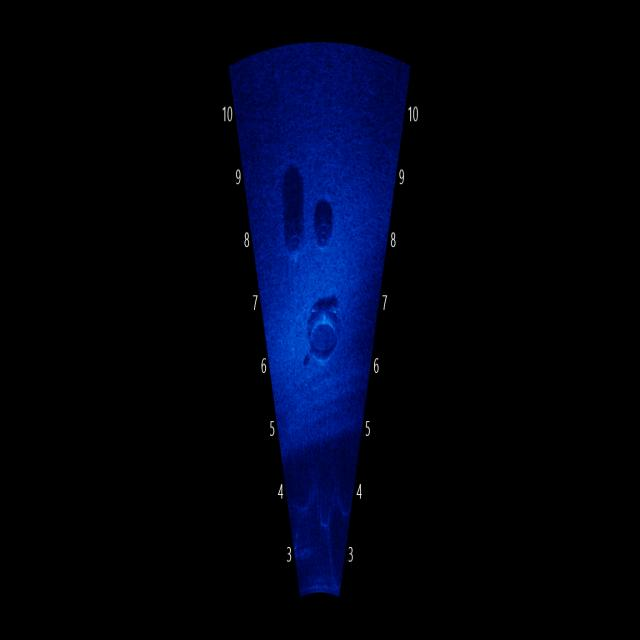circle: (295, 292, 347, 372), (308, 178, 340, 266), (283, 206, 307, 282)
